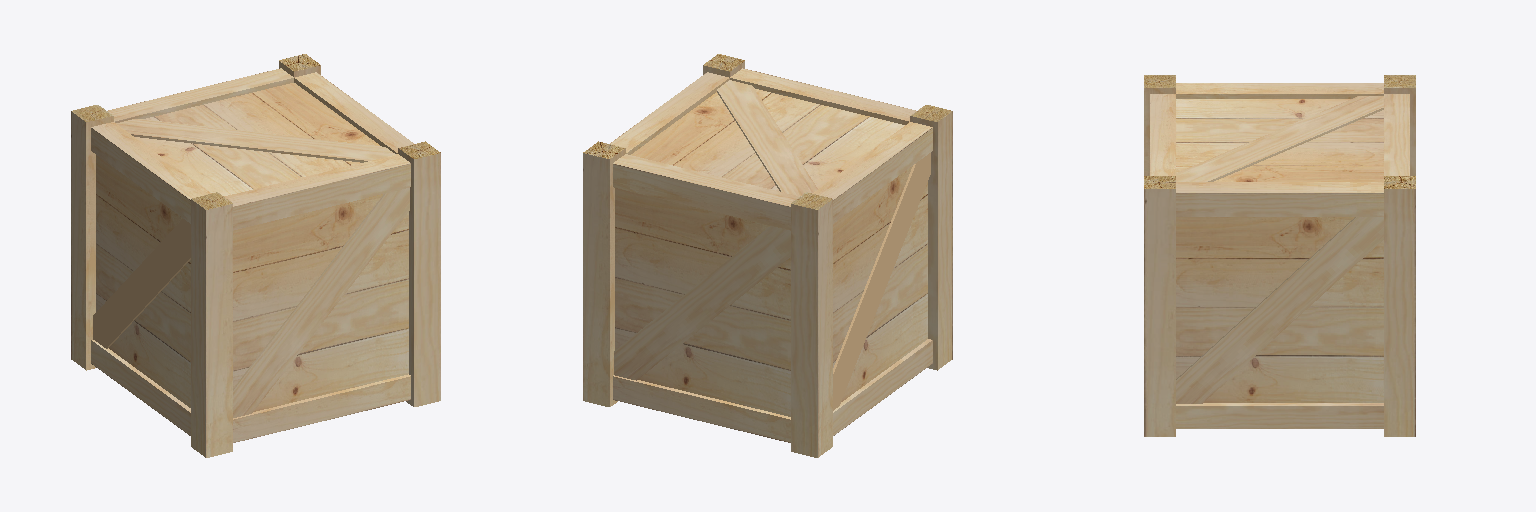
3 renders of one model, left to right at view 1: azimuth 30°, elevation 25°; view 2: azimuth 150°, elevation 25°; view 3: azimuth 270°, elevation 25°, orthographic.
Parts seen in each view (by area): view 1: Box_Cube.001; view 2: Box_Cube.001; view 3: Box_Cube.001.
Boxes of the visible parts, x1,y1,x2,y2 form: Box_Cube.001: [71, 54, 440, 457]; Box_Cube.001: [583, 54, 952, 457]; Box_Cube.001: [1144, 75, 1415, 436].
Size of the model in its own units: 2.08 by 2.1 by 2.08.
1 materials, 1 textured.